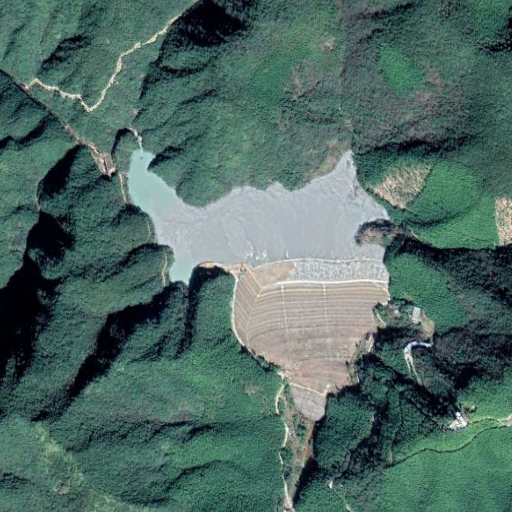tp: (124, 145, 390, 422)
